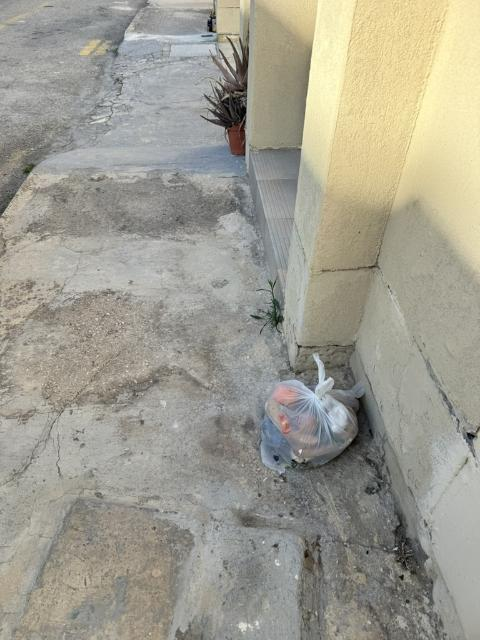Organic -White-: (261, 354, 364, 473)
